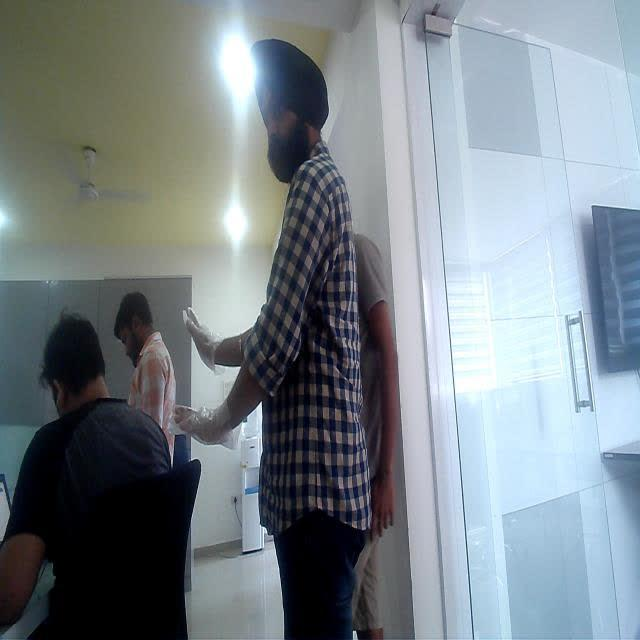with_gloves: (177, 288, 213, 366), (172, 397, 220, 449)
without_gloves: (370, 462, 398, 536)
